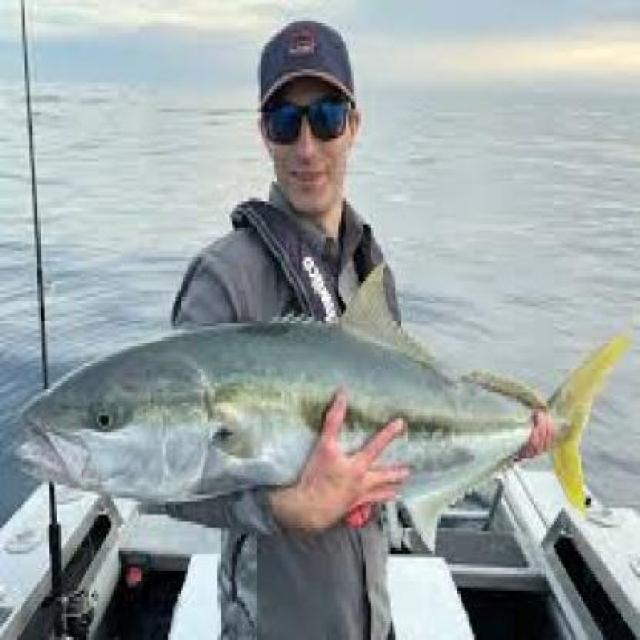Kingfish: (9, 252, 640, 554)
